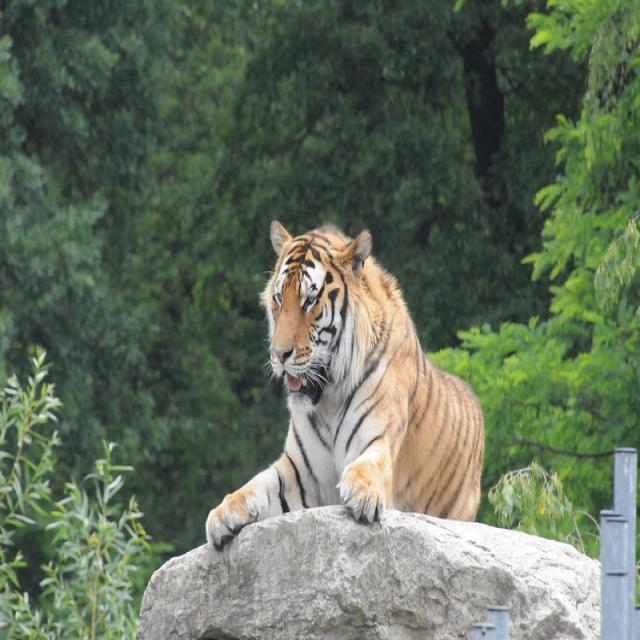Tiger: (204, 213, 486, 552)
